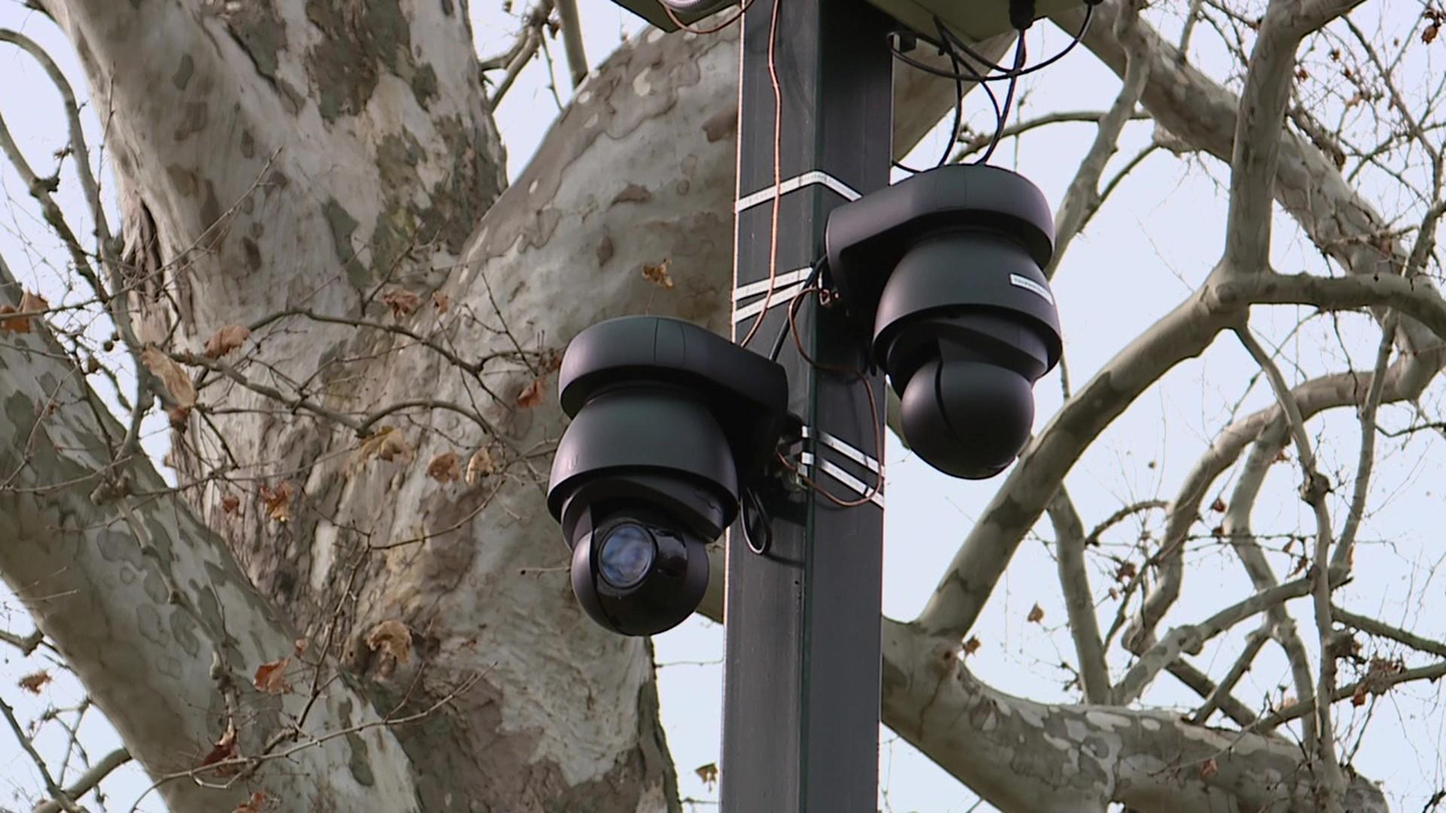camera: (819, 145, 1109, 529), (520, 277, 795, 650)
